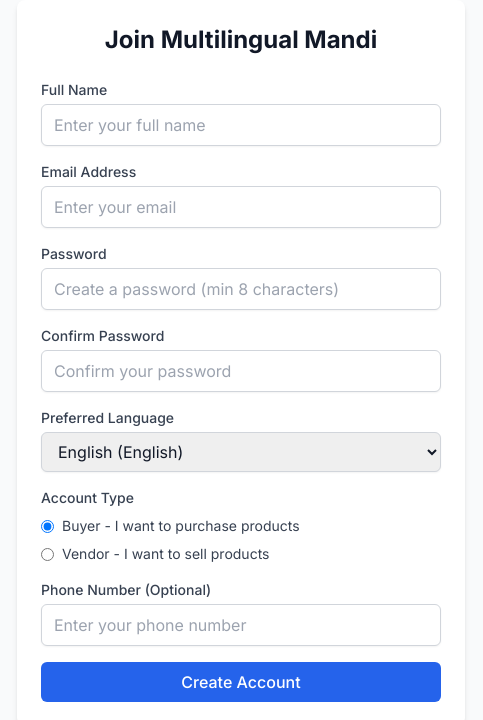
RegisterForm Component › should allow switching between account types
expect the radio button labelled "Buyer - I want to purchase products" is checked: met, box x1=41 y1=520 x2=54 y2=532
What coordinates should you click on to do the following:
click the radio button labelled "Vendor - I want to sell products"
I would click on:
 (48, 554)
Its box is x1=41 y1=548 x2=54 y2=560.
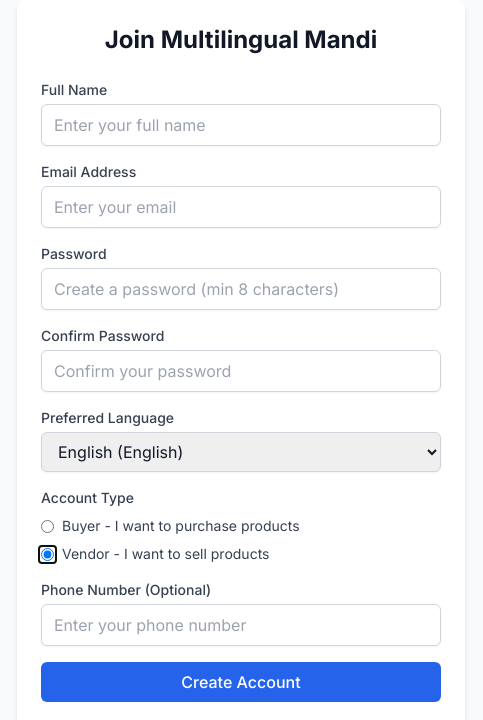
expect the radio button labelled "Vendor - I want to sell products" is checked: met, box x1=41 y1=548 x2=54 y2=560
expect the radio button labelled "Buyer - I want to purchase products" is not checked: met, box x1=41 y1=520 x2=54 y2=532
